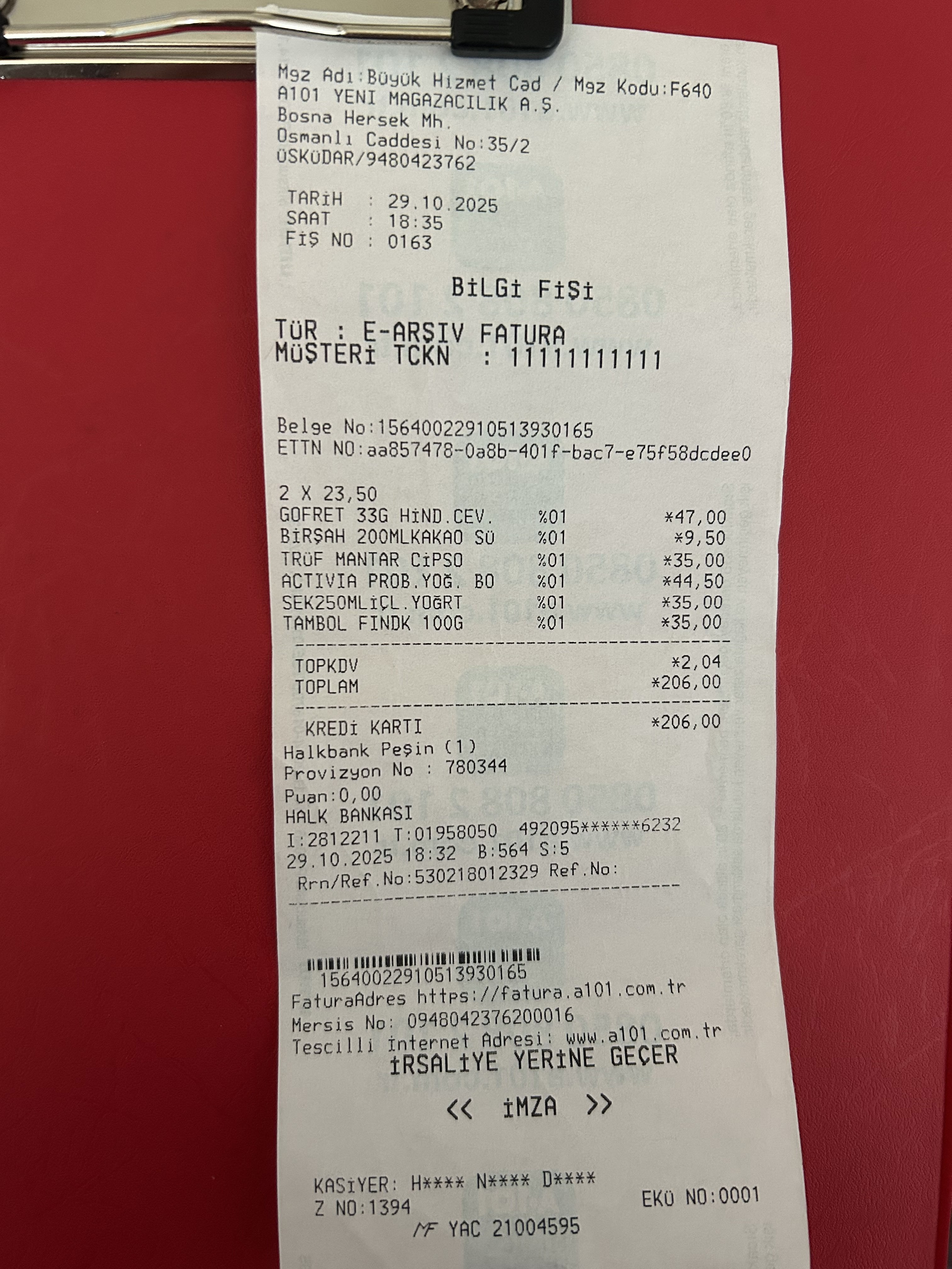date: (657, 670, 731, 693)
price: (382, 190, 503, 217)
workplace: (268, 56, 724, 155)
